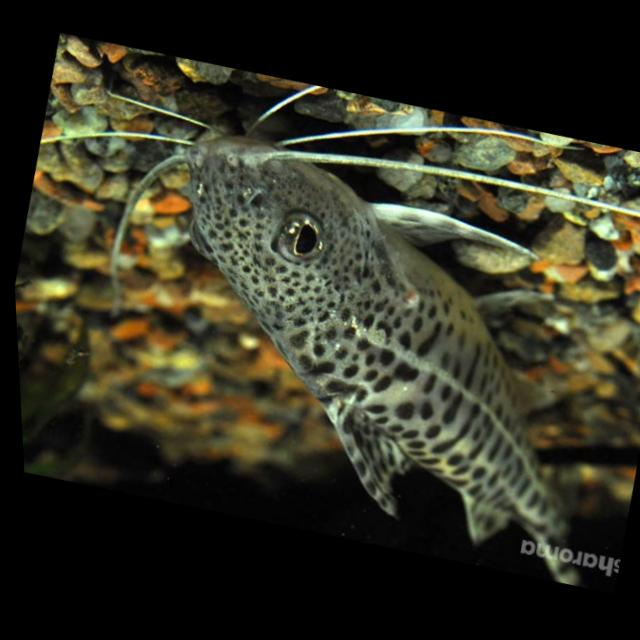fish: (46, 74, 640, 600)
